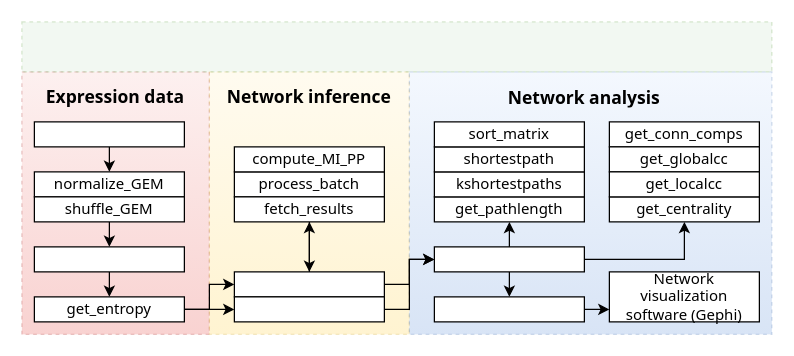
Image size: 794x356. Some labels were removed from this diagram. The centre of each missing label's shape, as x and y in pixels:
"compute_MI" goes at (x=308, y=284).
"compute_MI_batch" goes at (x=308, y=309).
"Data Matrix" goes at (x=108, y=134).
"export_network" goes at (x=508, y=309).
"get_distributions" goes at (x=108, y=259).
"sparsify_network" goes at (x=508, y=259).
"TITAN: Toolbox for Information Theoretic Analysis of Networks" goes at (x=396, y=46).
